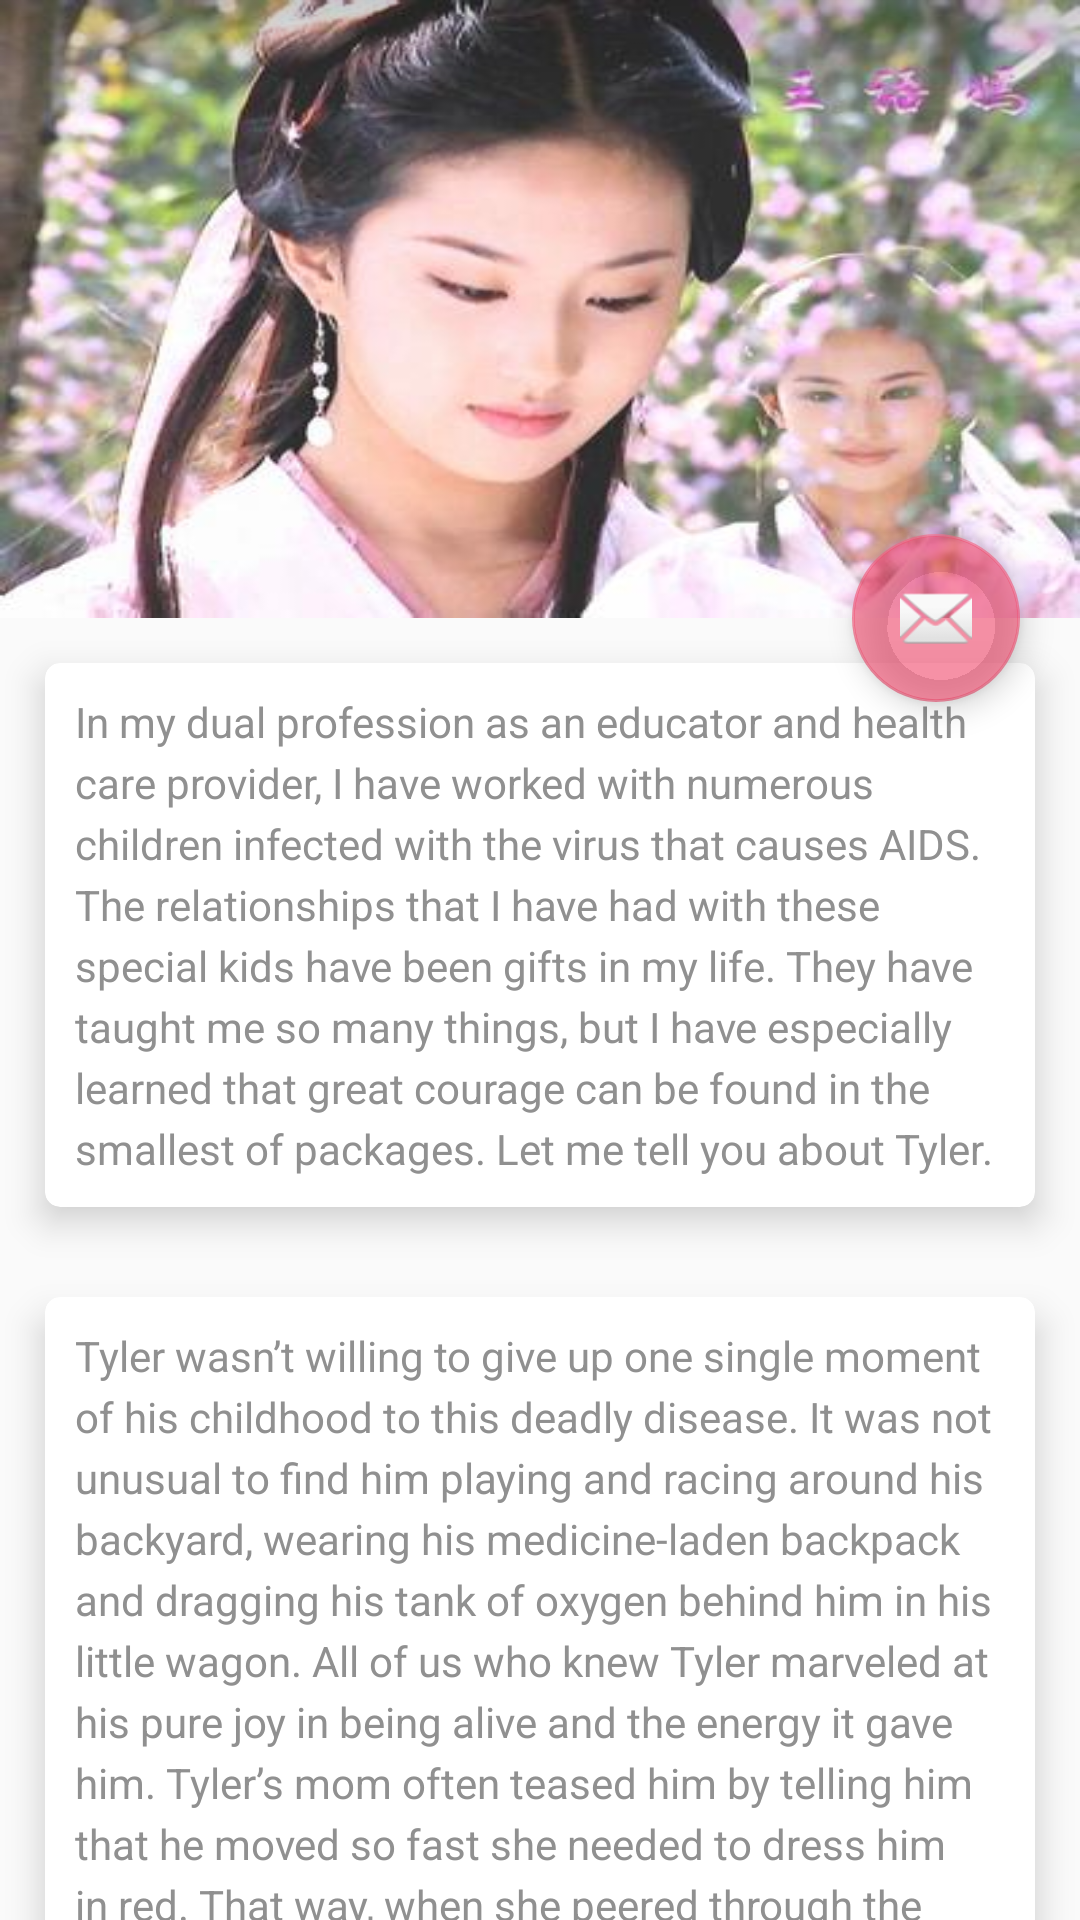

Point at icon controls on the screen. Image size 1080x1920, points as (x=x, y=y).
email: (x=936, y=618)
